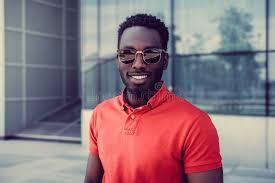sunglasses: (117, 44, 166, 69)
